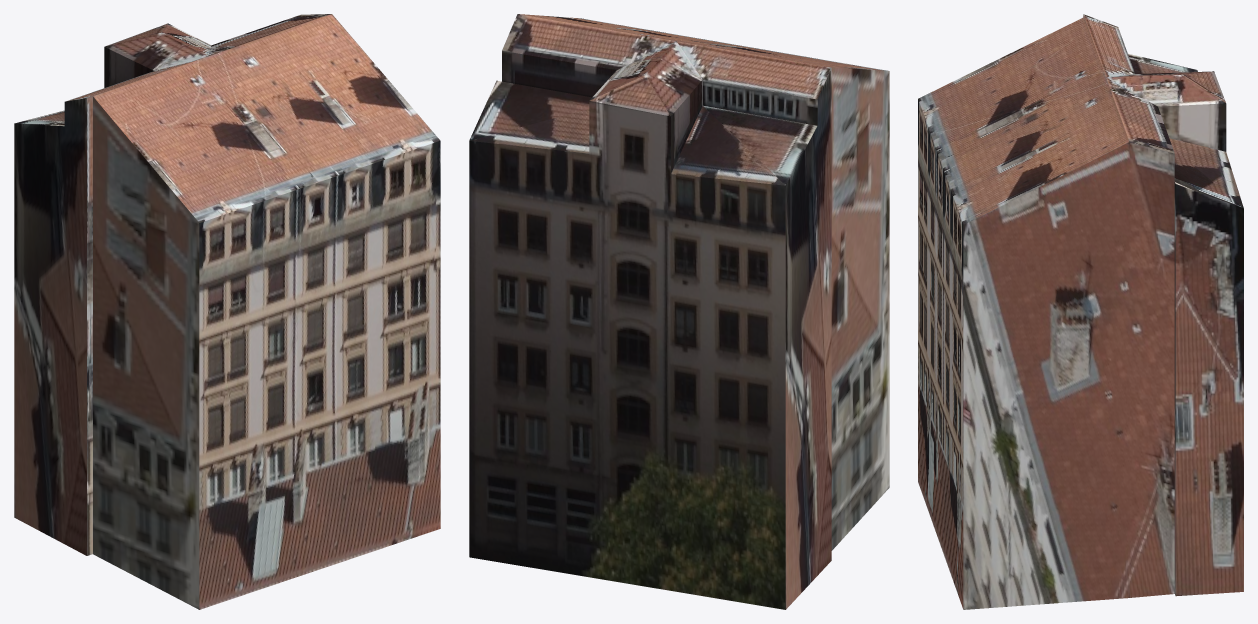
3 renders of one model, left to right at view 1: azimuth 30°, elevation 25°; view 2: azimuth 150°, elevation 25°; view 3: azimuth 270°, elevation 25°, orthographic. The views are drawn at different scales.
Visible parts, largest first — view 1: Z_UP; view 2: Z_UP; view 3: Z_UP.
Part boxes in pixels (x1=…): Z_UP: x1=14, y1=14, x2=440, y2=609; Z_UP: x1=469, y1=14, x2=889, y2=609; Z_UP: x1=918, y1=14, x2=1243, y2=609.
Bounding box in the file's own units: 19.32 × 27.54 × 17.84.
Materials: 2 (1 with a texture image).
